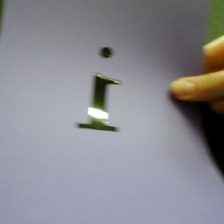violet1: (66, 42, 131, 141)
